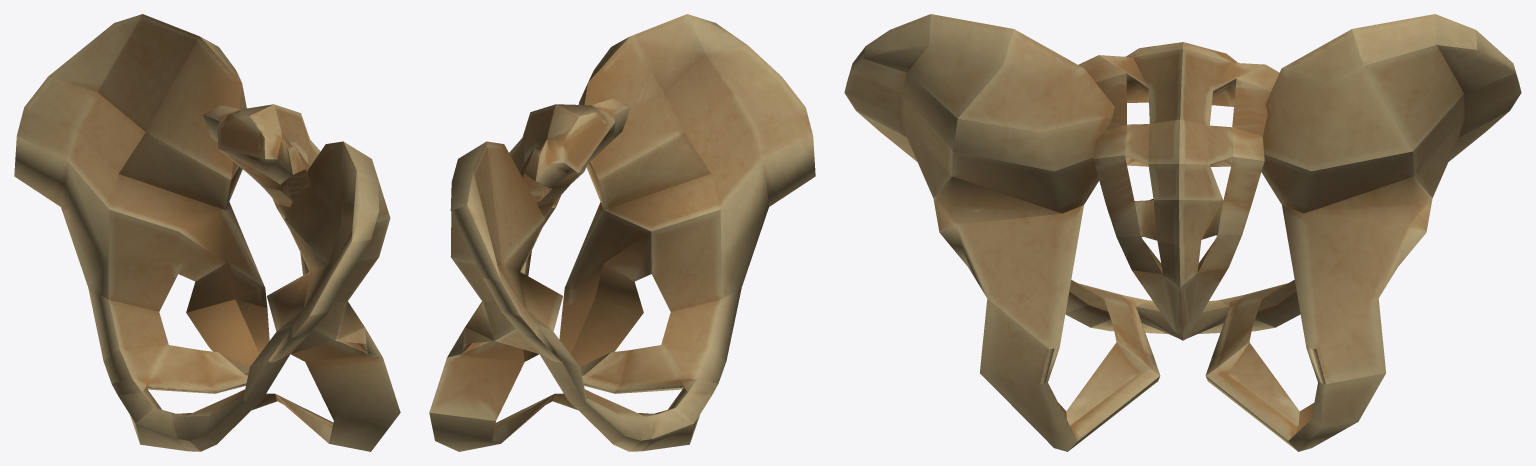
File: pelvice.fbx
The picture shows the model from 3 angles, left to right: view 1: azimuth 30°, elevation 25°; view 2: azimuth 150°, elevation 25°; view 3: azimuth 270°, elevation 25°; orthographic projection. The views are drawn at different scales.
Parts seen in each view (by area): view 1: pelvice; view 2: pelvice; view 3: pelvice.
Boxes of the visible parts, x1=… form: pelvice: x1=14, y1=14, x2=400, y2=451; pelvice: x1=429, y1=14, x2=815, y2=451; pelvice: x1=844, y1=14, x2=1521, y2=451.
Bounding box in the file's own units: 21.93 × 32.77 × 50.62.
1 material, 1 textured.
